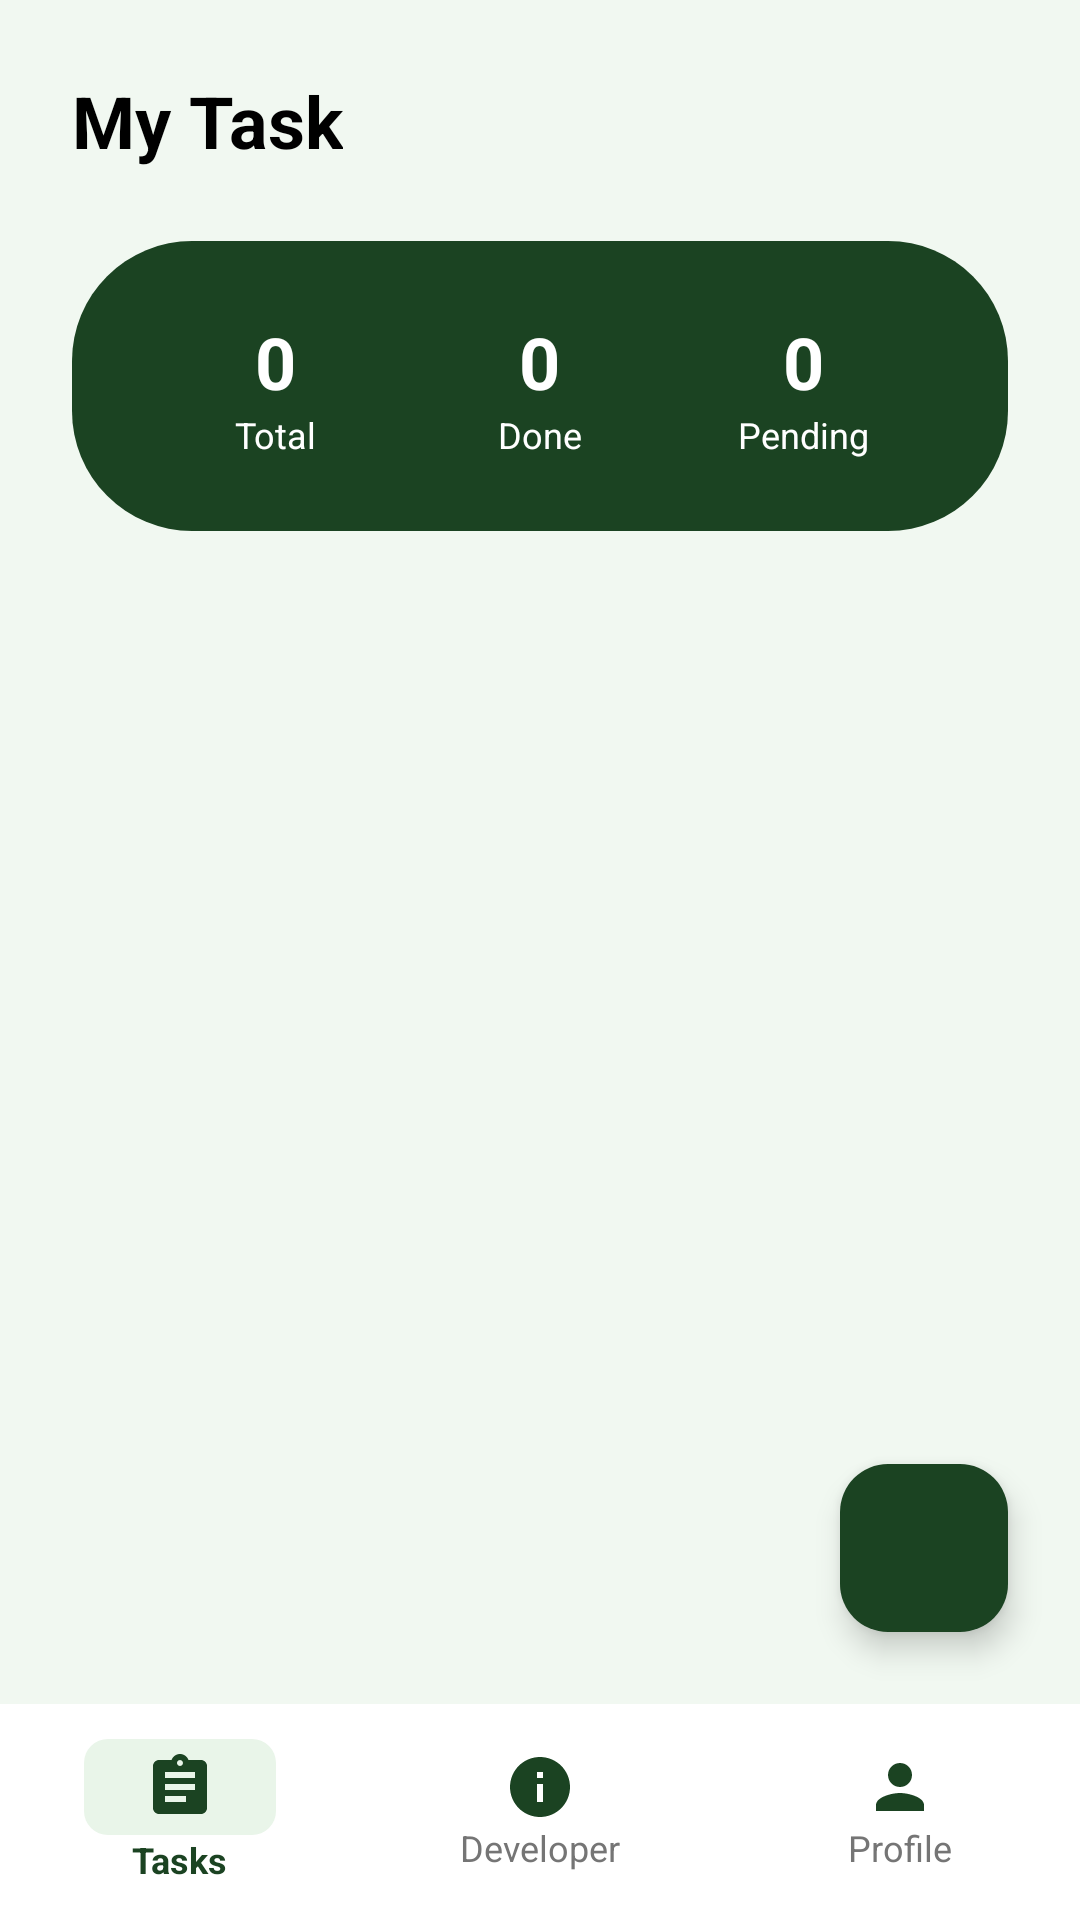

Named icons in this screenshot (1080×1920) and their bounding boxes, [x1,y1,x2,y2]:
info: [510,1757,570,1817]
